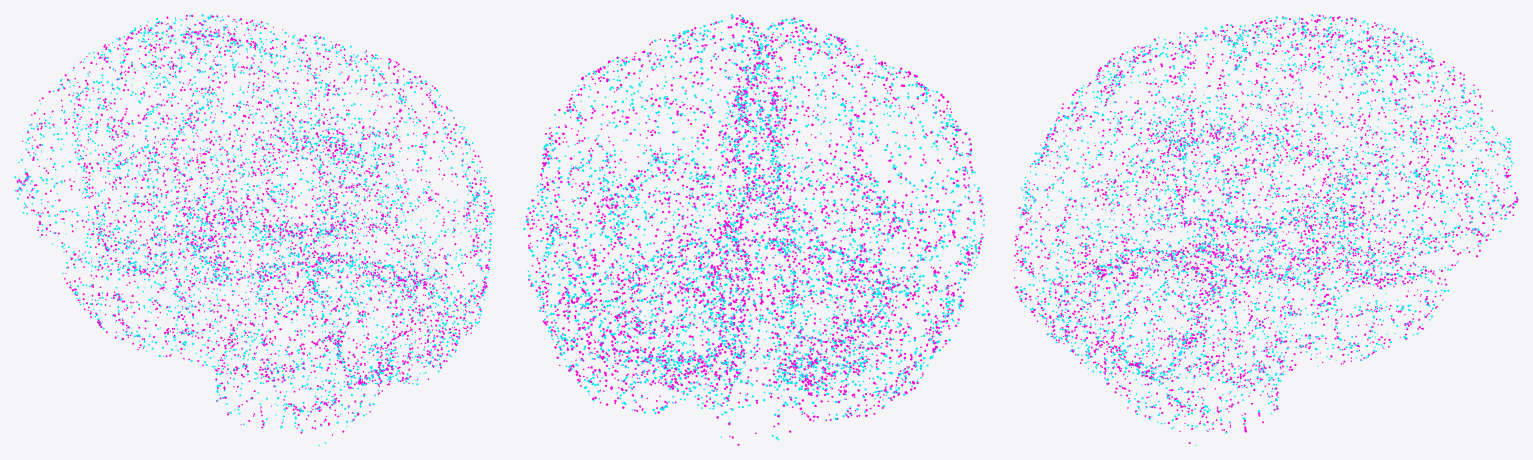
3 renders of one model, left to right at view 1: azimuth 30°, elevation 25°; view 2: azimuth 150°, elevation 25°; view 3: azimuth 270°, elevation 25°, orthographic. The views are drawn at different scales.
Parts seen in each view (by area): view 1: Icosphere.001; view 2: Icosphere.001; view 3: Icosphere.001.
Boxes of the visible parts, left/top/right/bottom form: Icosphere.001: left=14, top=14, right=494, bottom=445; Icosphere.001: left=523, top=14, right=984, bottom=445; Icosphere.001: left=1013, top=14, right=1518, bottom=445.
Size of the model in its own units: 1.09 by 1.1 by 1.3.
